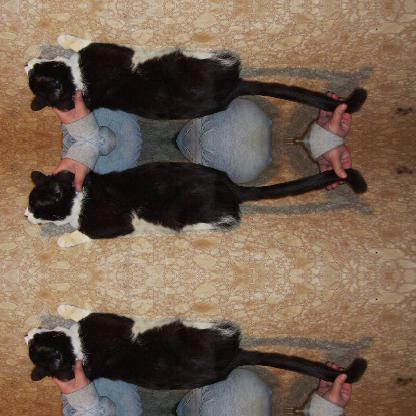Cat: (22, 302, 368, 390), (22, 160, 368, 247), (22, 32, 368, 119)
